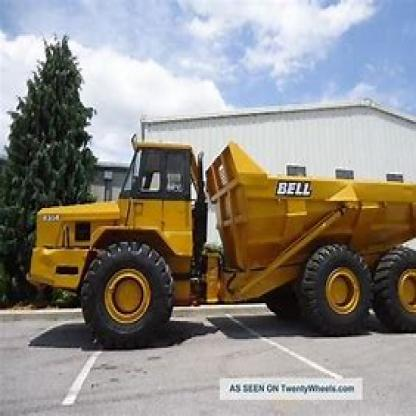dump_truck: (19, 127, 415, 350)
